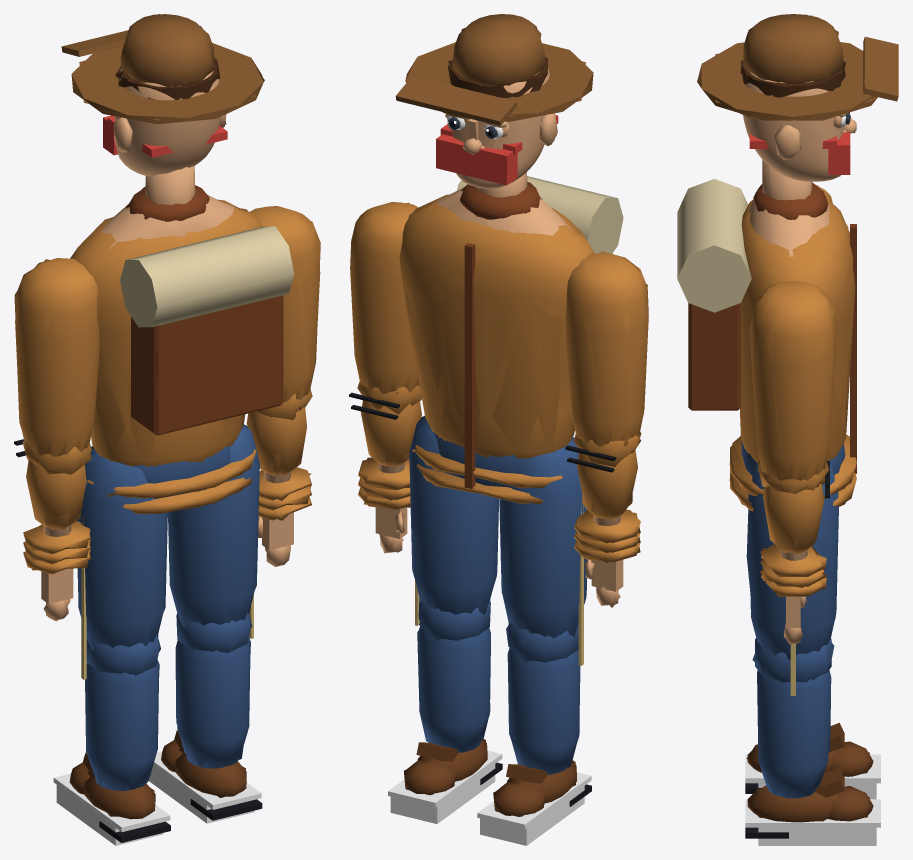
File: char_cow.glb
3 views of the same model, side by side, from view 1: azimuth 30°, elevation 25°; view 2: azimuth 150°, elevation 25°; view 3: azimuth 270°, elevation 25° (orthographic). The views are drawn at different scales.
Parts seen in each view (by area): view 1: lod_low, torso_d_7a3d1c, arm_L_sleeve, torso_jacket, leg_L_pant, leg_R_pant, head_d_8a5a2c, torso_d_d9c9a0, shin_L_pant, shin_R_pant, arm_R_sleeve, head_crown (+24 smaller); view 2: lod_low, torso_jacket, arm_L_sleeve, leg_L_pant, arm_R_sleeve, leg_R_pant, head_d_8a5a2c, shin_R_pant, shin_L_pant, head_crown, torso_d_top2, shin_R_d_6a3d1c (+22 smaller); view 3: lod_low, arm_R_sleeve, head_d_8a5a2c, torso_jacket, leg_R_pant, shin_R_pant, torso_d_7a3d1c, head_crown, torso_d_d9c9a0, head_skull, shin_R_d_6a3d1c, forearm_R_sleeve (+16 smaller).
Boxes of the visible parts, x1,y1,x2,y2 form: lod_low: (14,14,320,845); torso_d_7a3d1c: (131,295,283,435); arm_L_sleeve: (15,258,99,465); torso_jacket: (70,199,262,466); leg_L_pant: (77,446,166,647); leg_R_pant: (168,424,258,625); head_d_8a5a2c: (61,30,263,124); torso_d_d9c9a0: (127,226,294,315); shin_L_pant: (85,661,159,790); shin_R_pant: (177,642,250,768); arm_R_sleeve: (250,206,320,410); head_crown: (121,14,214,86); lod_low: (351,17,647,845); torso_jacket: (399,194,594,458); arm_L_sleeve: (565,252,648,446); leg_L_pant: (499,437,587,636); arm_R_sleeve: (350,202,419,393); leg_R_pant: (409,416,498,614); head_d_8a5a2c: (395,42,593,125); shin_R_pant: (419,626,490,752); shin_L_pant: (507,648,580,774); head_crown: (453,14,545,85); torso_d_top2: (464,243,475,488); shin_R_d_6a3d1c: (405,741,487,793); lod_low: (677,15,877,845); arm_R_sleeve: (751,281,836,492); head_d_8a5a2c: (697,36,898,120); torso_jacket: (739,199,852,462); leg_R_pant: (748,463,838,660); shin_R_pant: (757,670,829,798); torso_d_7a3d1c: (688,303,740,410); head_crown: (743,14,843,83); torso_d_d9c9a0: (682,178,746,267); head_skull: (742,71,843,181); shin_R_d_6a3d1c: (747,767,873,822); forearm_R_sleeve: (763,483,823,553).
Bounding box in the file's own units: 0.77 × 1.99 × 0.5056.
